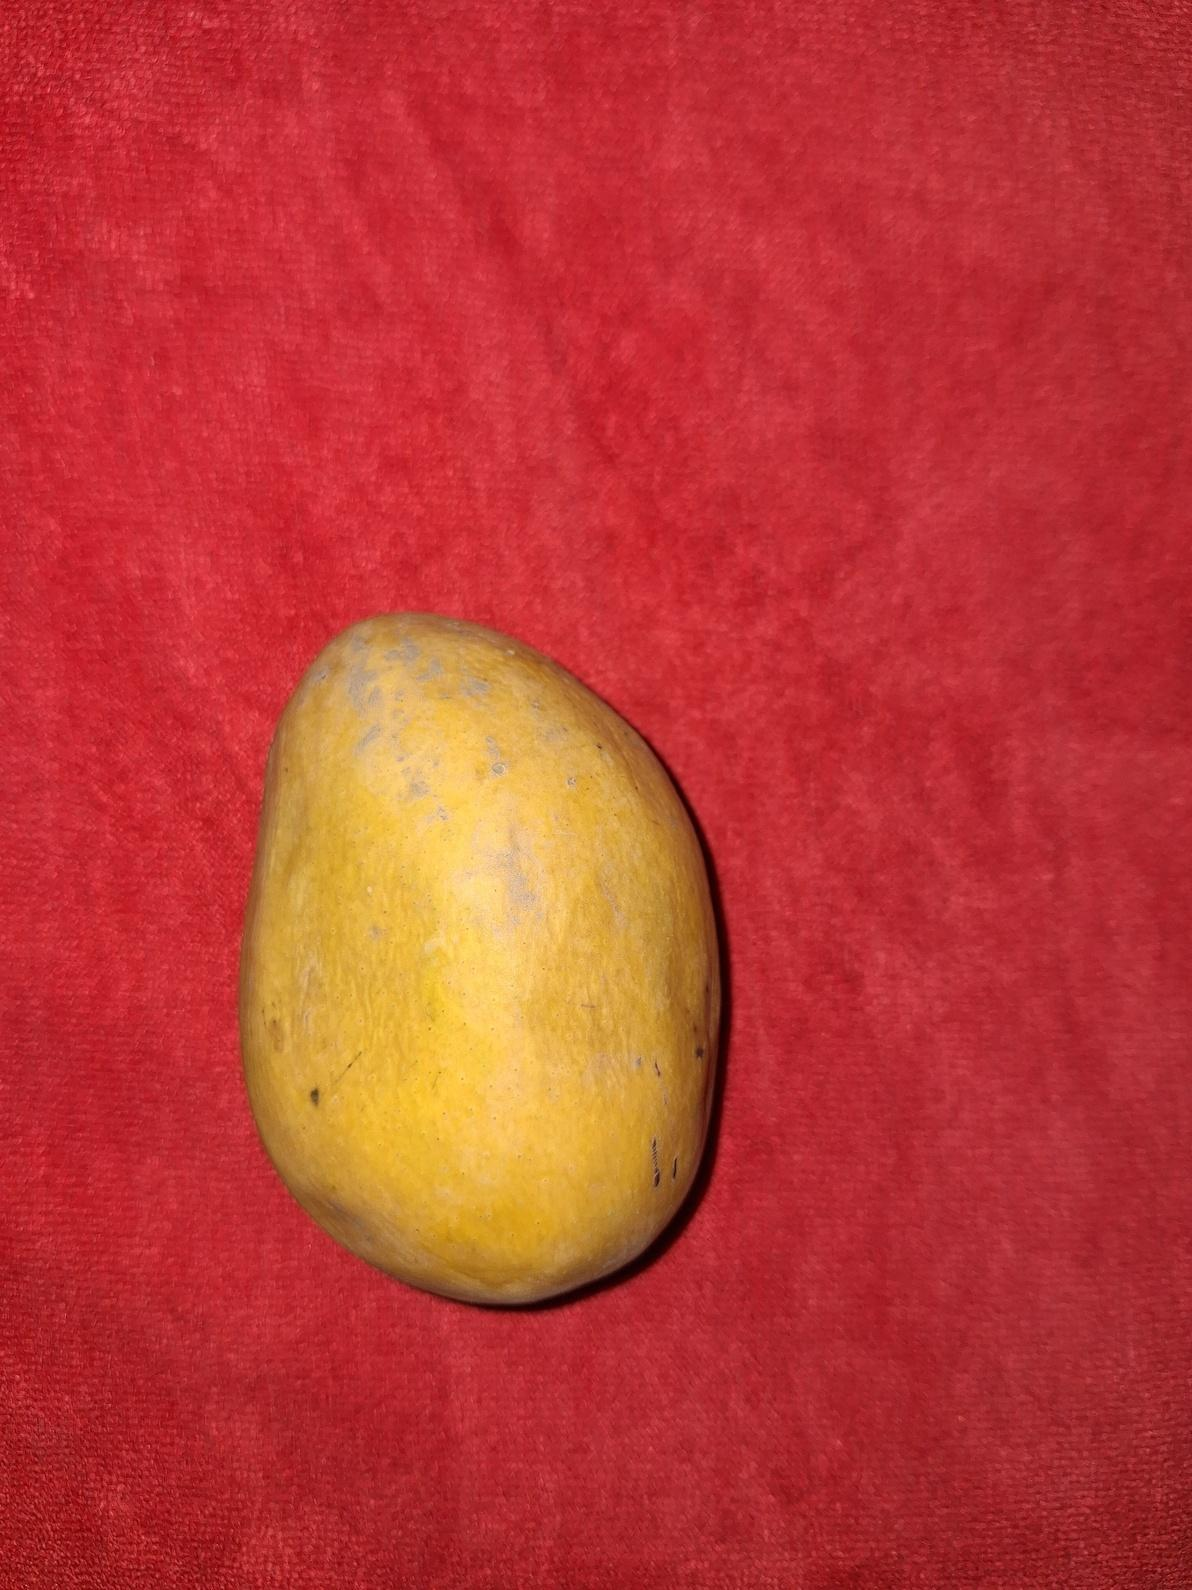mango: (235, 608, 722, 1307)
